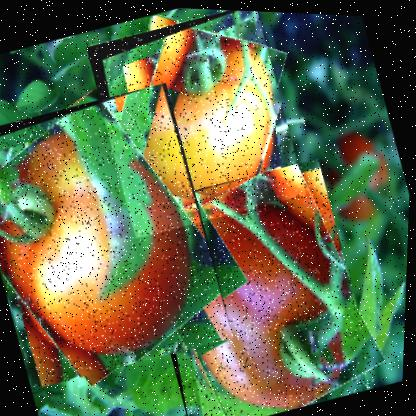tomato: (0, 74, 244, 397), (124, 146, 389, 415), (78, 3, 313, 244)
